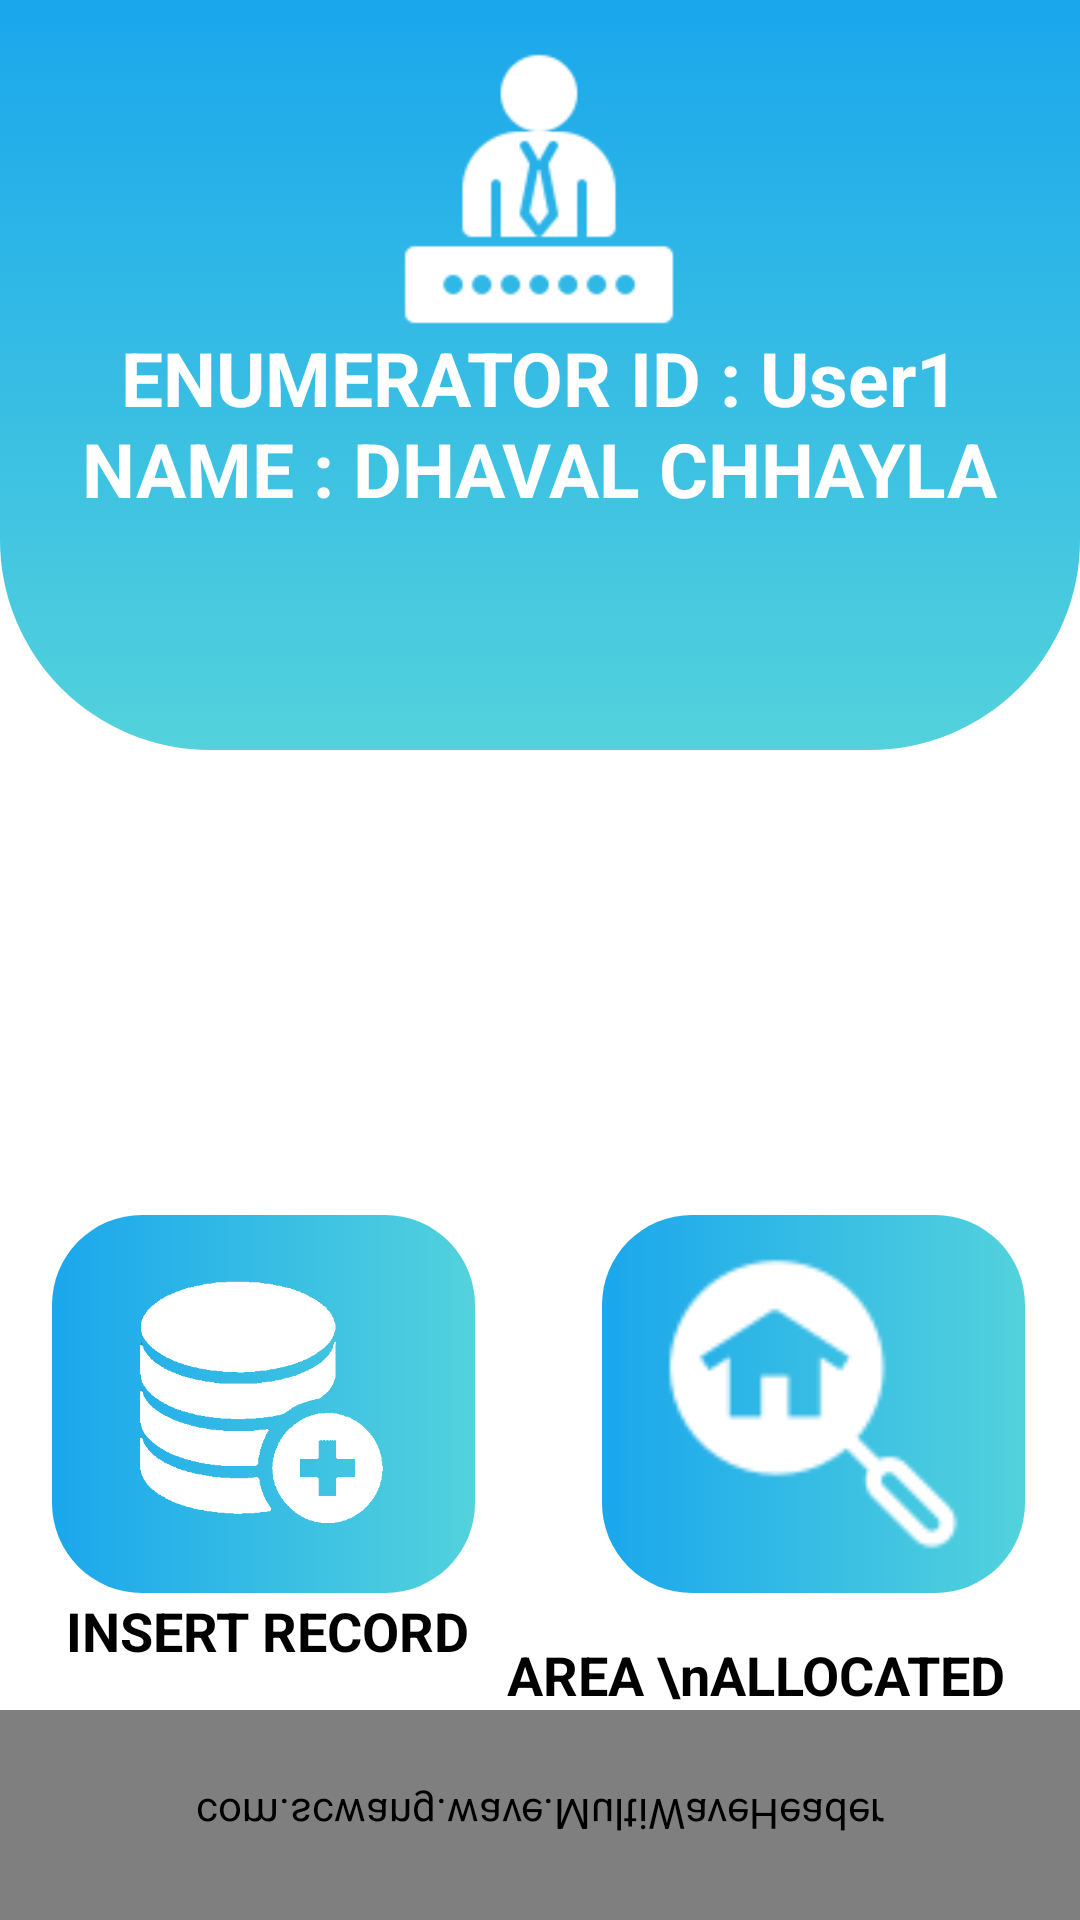

Icon click points for this 1080w x 1920h phone screenshot, format point (x, y):
username: point (539, 189)
